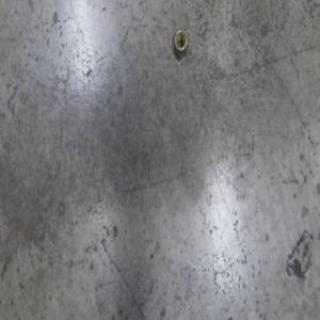Nuttrack_idkeyframe: (171, 24, 186, 57)
